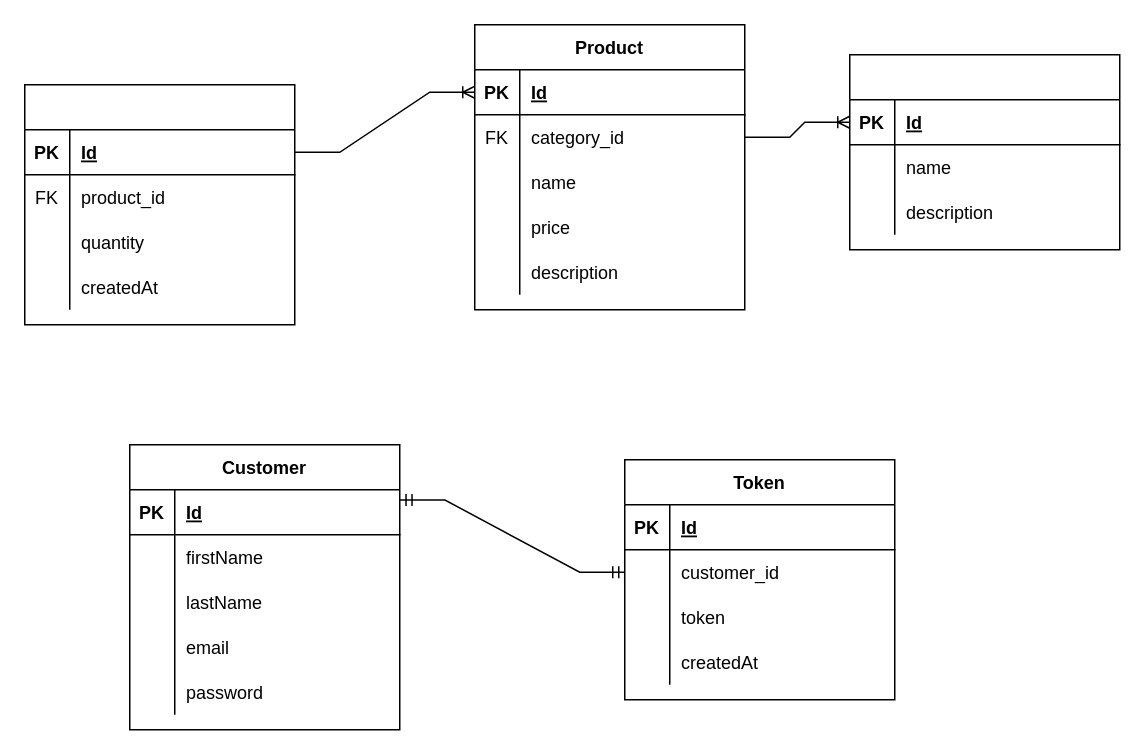
The diagram is 1145 pixels wide and 755 high, and some of its shapes have lost their labels. Each missing label, with the box of its shape:
Cart: (23, 83, 295, 325)
Category: (848, 53, 1120, 250)
